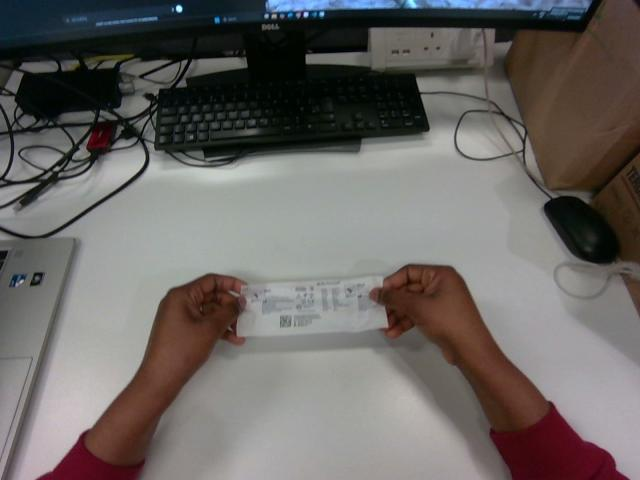syringe: (237, 276, 387, 336)
